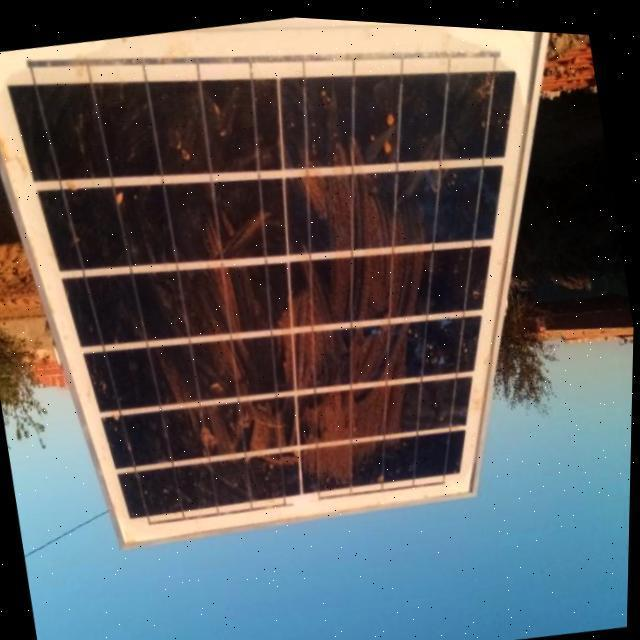Anomaly Solar Panel: (0, 39, 528, 526)
Surface Contaminant: (58, 63, 515, 519)
